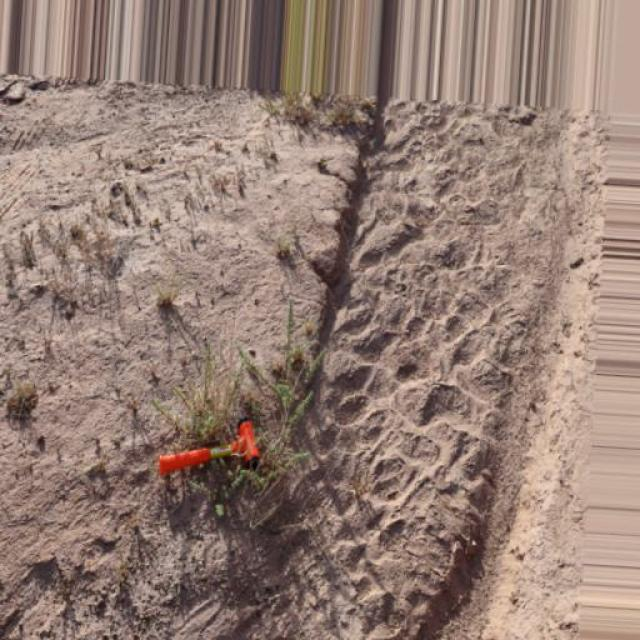mallet: (158, 418, 262, 477)
